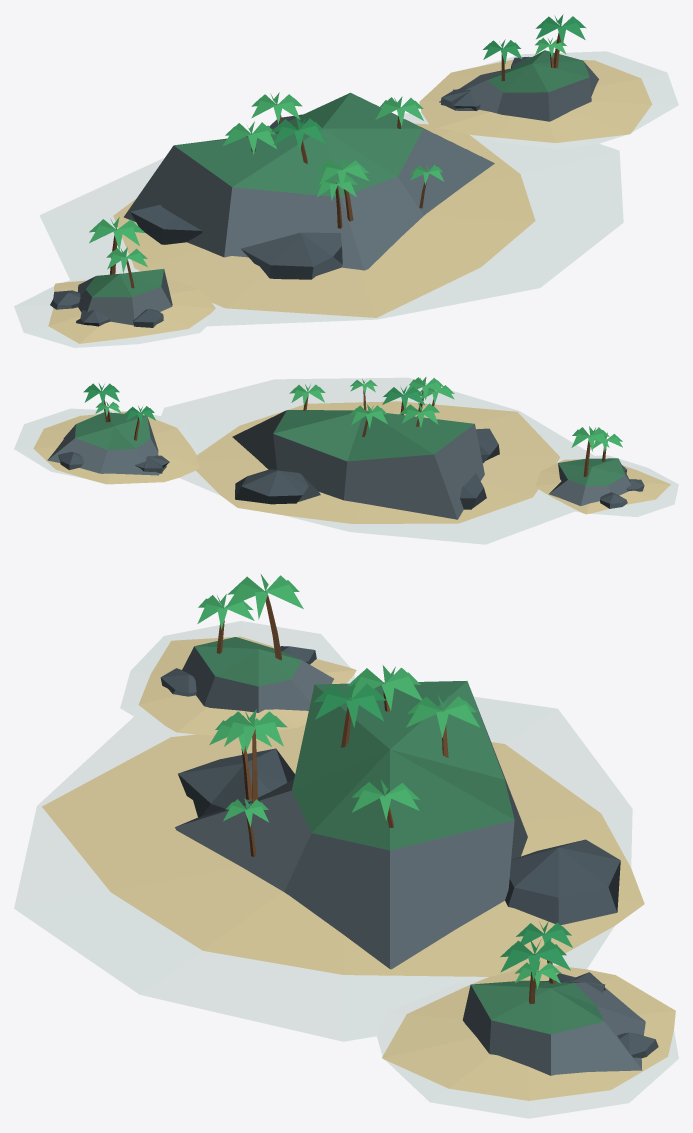
File: W2_Mid_Islet_A.fbx
3 views of the same model, one above another, from view 1: azimuth 30°, elevation 25°; view 2: azimuth 150°, elevation 25°; view 3: azimuth 270°, elevation 25° (orthographic). The views are drawn at different scales.
Visible parts, largest first — view 1: W2_Mid_Islet_A; view 2: W2_Mid_Islet_A; view 3: W2_Mid_Islet_A.
Boxes of the visible parts, bbox=[...] form: W2_Mid_Islet_A: bbox=[14, 14, 678, 347]; W2_Mid_Islet_A: bbox=[14, 377, 678, 544]; W2_Mid_Islet_A: bbox=[14, 574, 678, 1118].
Bounding box in the file's own units: 161 × 21.01 × 91.04.
